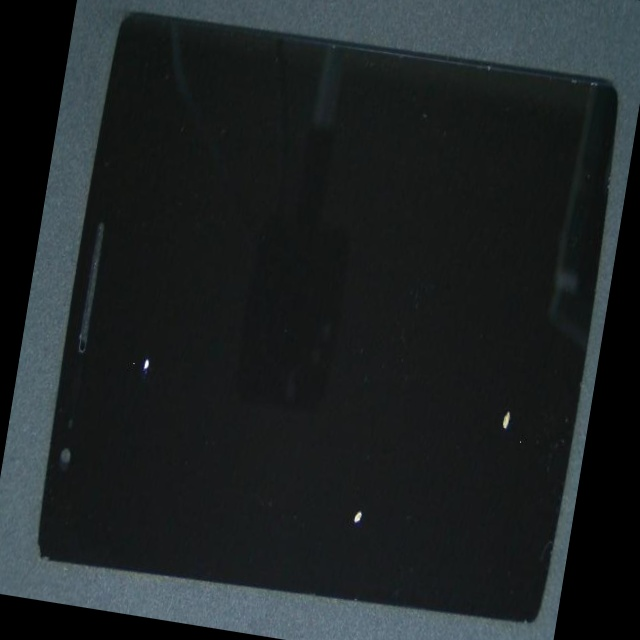stain: (137, 213, 578, 640), (256, 212, 615, 640), (34, 152, 210, 616)
